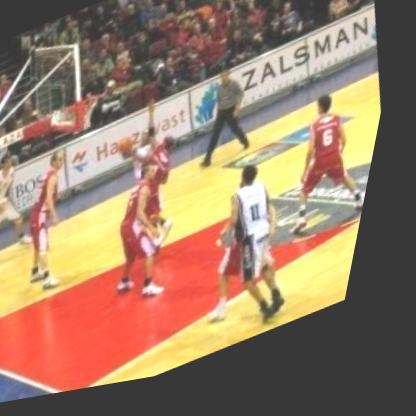basketball: (118, 134, 147, 163)
